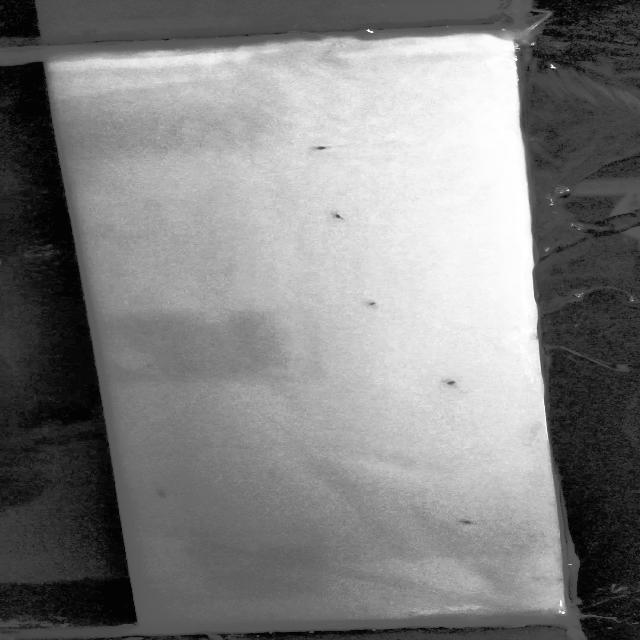shrimp: (448, 504, 493, 536), (431, 374, 476, 394), (147, 484, 190, 504), (352, 290, 386, 315), (316, 210, 362, 222), (306, 140, 338, 156)
